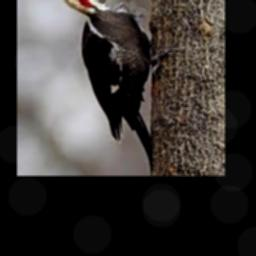Woodpecker: (50, 0, 179, 175)
